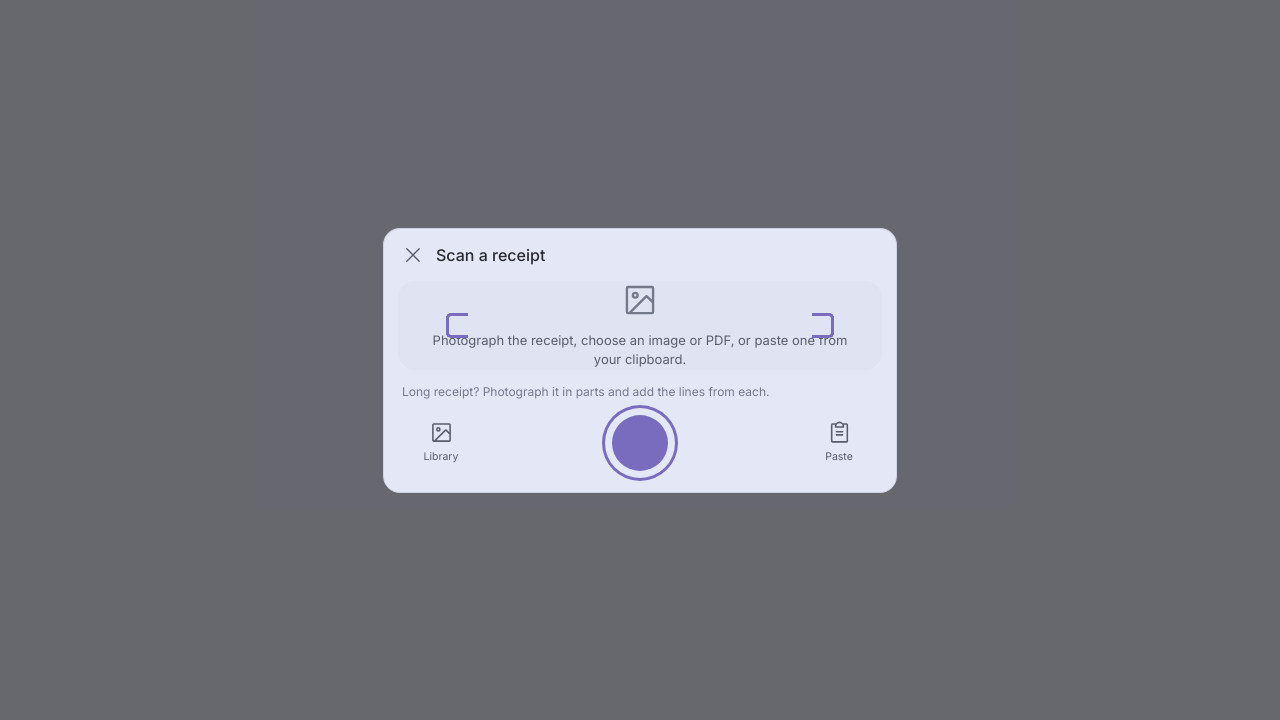
ReceiptScanner paste › adopts an image via the "Paste from clipboard" button
What coordinates should you click on to do the following:
click the button with aria-label "paste from clipboard"
I would click on:
 (839, 442)
Its box is [810, 420, 868, 465].
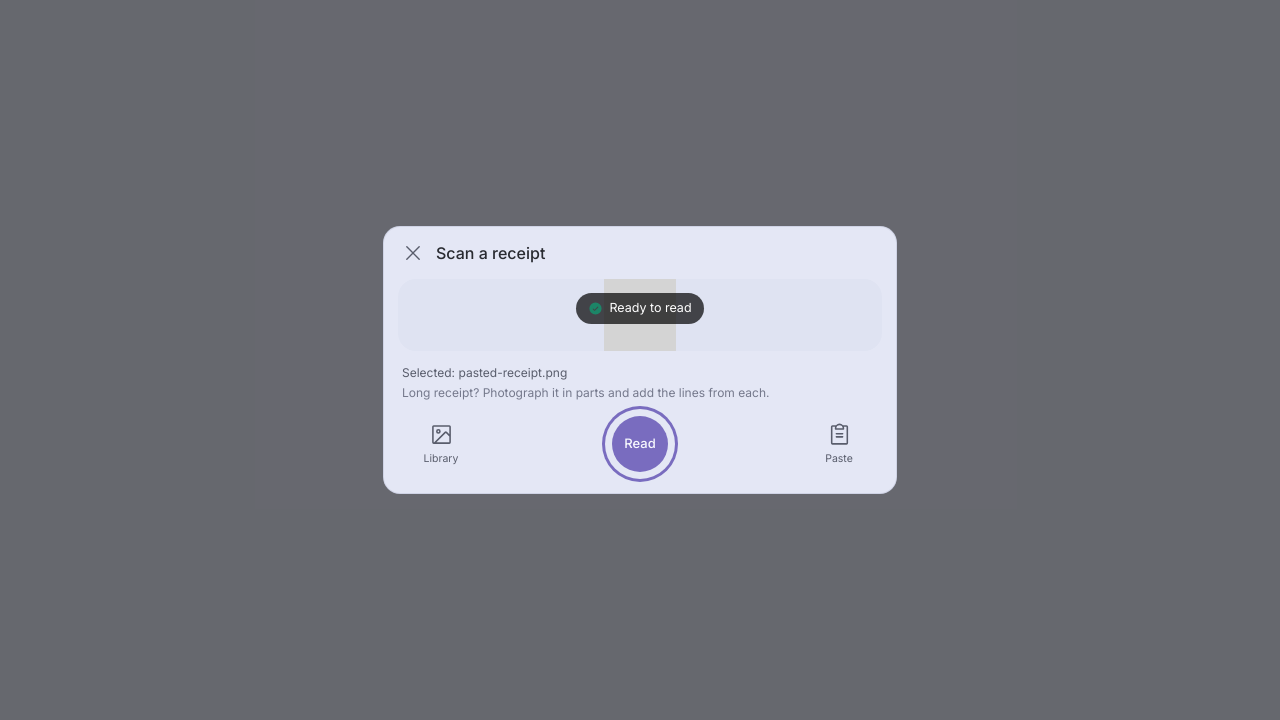
Expected: the button with aria-label "read this receipt" is enabled, [605, 409, 675, 479]
Now the text "Selected: pasted-receipt.png" is shown, box [402, 365, 567, 380]
